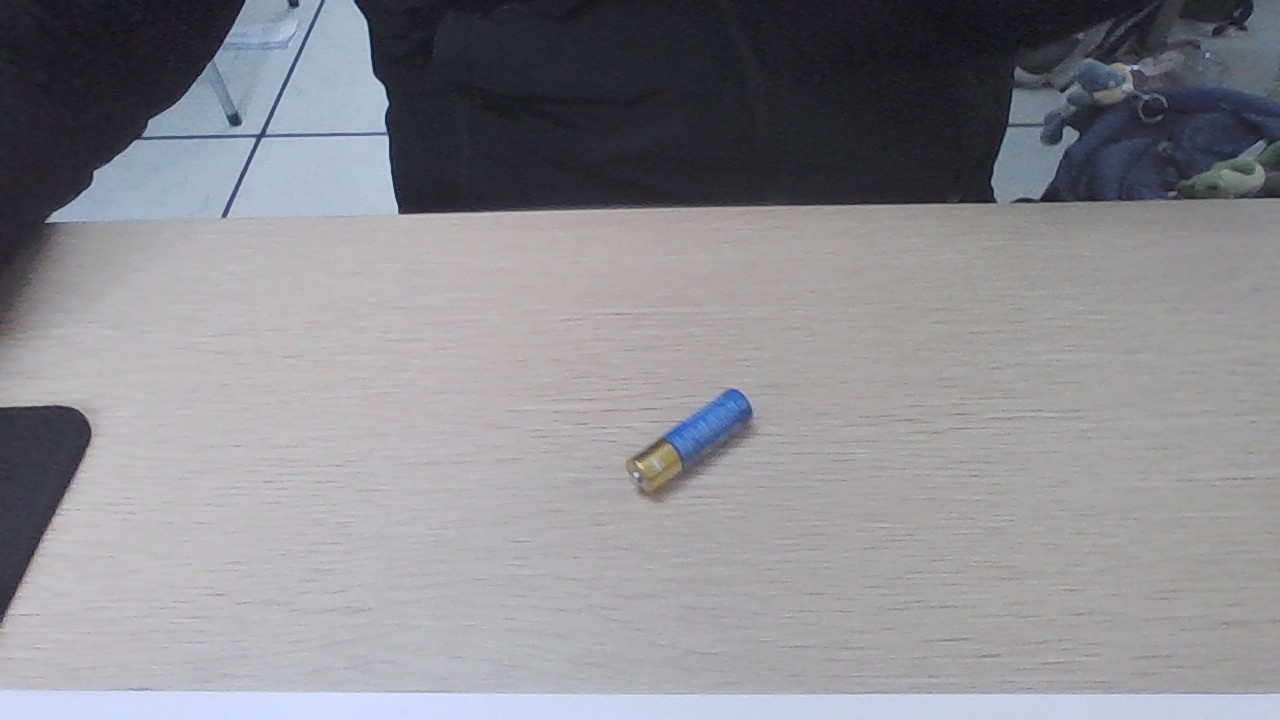YH-battery: (626, 388, 753, 495)
